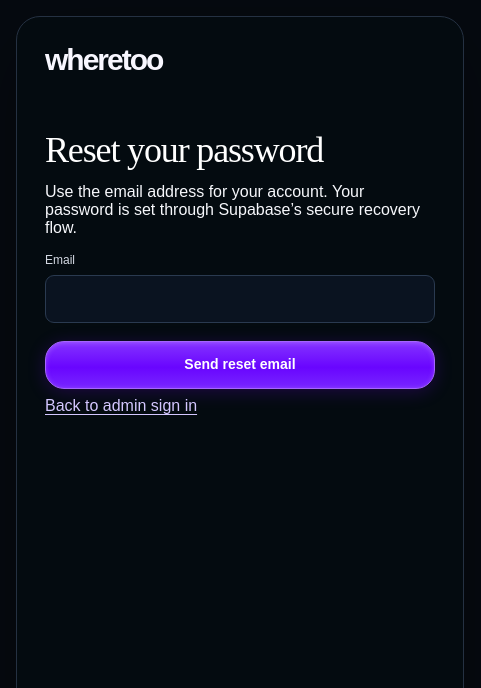
Scenario: offers a reset request with a generic non-enumerating response
This screenshot has width=481, height=688.
Type "founder@example.test" into the field labelled "Email". click: point(240, 299)
box: [45,275,435,323]
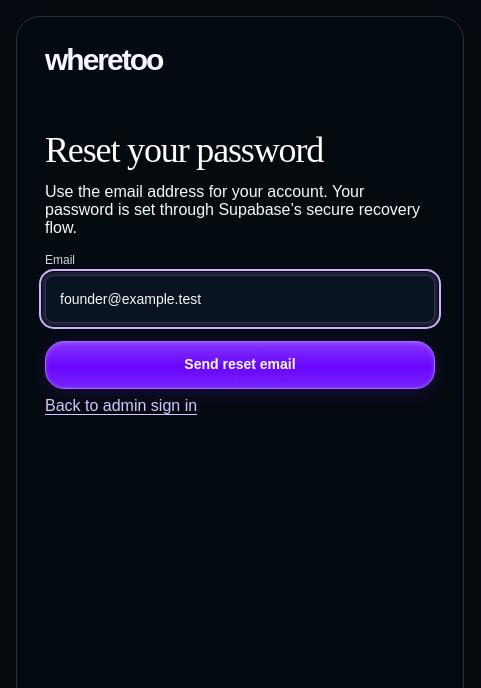
Click the button "Send reset email". click: point(240, 365)
box: [45,341,435,389]
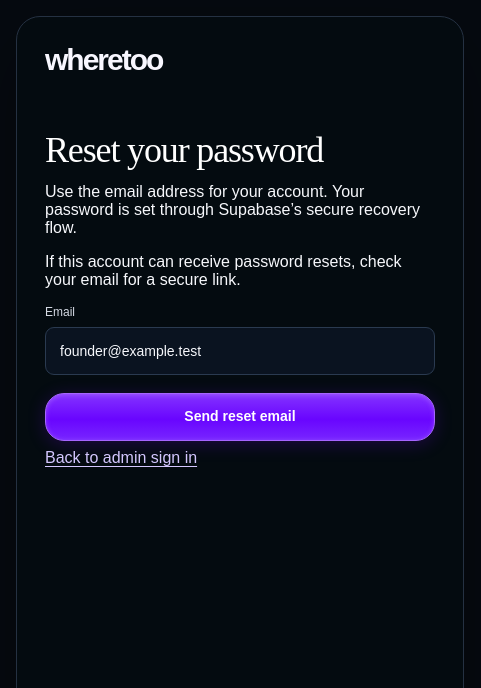
Result: the text "If this account can receive password resets, check your email for a secure link." is shown at [45,253,435,289]
